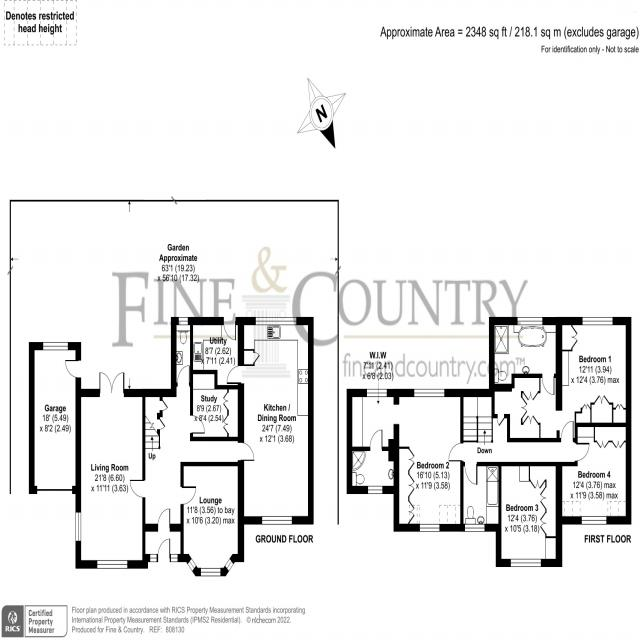DOOR: (237, 442, 255, 462), (226, 365, 244, 385), (464, 462, 478, 486), (157, 508, 171, 532), (560, 420, 574, 443), (574, 442, 590, 462), (448, 442, 464, 462), (223, 317, 236, 341), (180, 486, 196, 505), (129, 479, 145, 498), (542, 373, 555, 396), (158, 538, 170, 562), (177, 365, 190, 387), (190, 415, 205, 434)
DOUBLE DOOR: (99, 370, 125, 398)
ROOM: (226, 317, 314, 525), (75, 369, 146, 569), (393, 389, 464, 532), (556, 317, 632, 443), (556, 423, 632, 525), (180, 461, 245, 577), (499, 461, 562, 567), (190, 368, 245, 441), (190, 317, 245, 389)
WINDOW: (255, 317, 297, 326), (582, 317, 613, 326), (510, 559, 541, 568), (97, 560, 128, 569), (262, 516, 292, 525), (414, 389, 445, 397), (581, 516, 607, 525), (517, 317, 543, 325), (200, 568, 221, 577), (75, 512, 81, 542), (464, 524, 485, 532), (419, 524, 440, 532), (367, 389, 387, 397), (224, 558, 234, 572), (187, 558, 197, 572), (368, 486, 383, 494), (178, 317, 188, 325), (170, 554, 178, 562), (150, 554, 157, 562)
